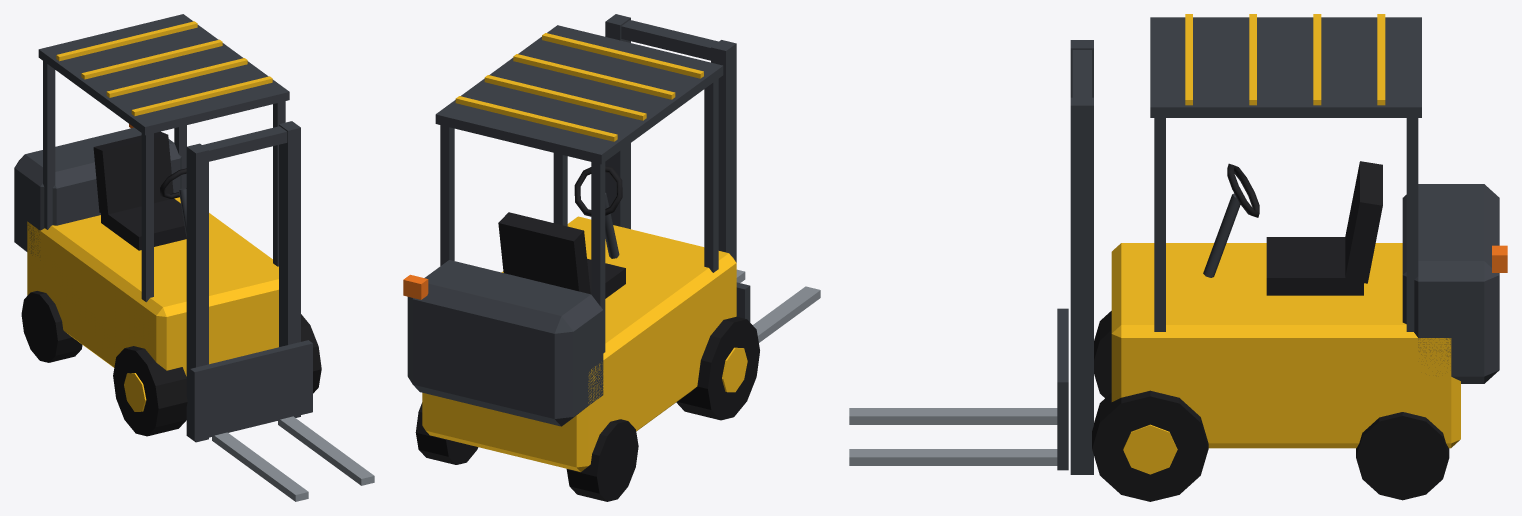
The model's file is forklift.glb.
3 renders of one model, left to right at view 1: azimuth 30°, elevation 25°; view 2: azimuth 150°, elevation 25°; view 3: azimuth 270°, elevation 25°, orthographic. The views are drawn at different scales.
Parts seen in each view (by area): view 1: forklift, Forks; view 2: forklift, Forks; view 3: forklift, Forks.
Boxes of the visible parts, x1,y1,x2,y2 form: forklift: [14, 14, 321, 442]; Forks: [190, 340, 374, 501]; forklift: [403, 14, 759, 501]; Forks: [736, 269, 820, 342]; forklift: [1070, 14, 1507, 501]; Forks: [849, 308, 1068, 470].
Bounding box in the file's own units: 1.26 × 2.24 × 3.39.
